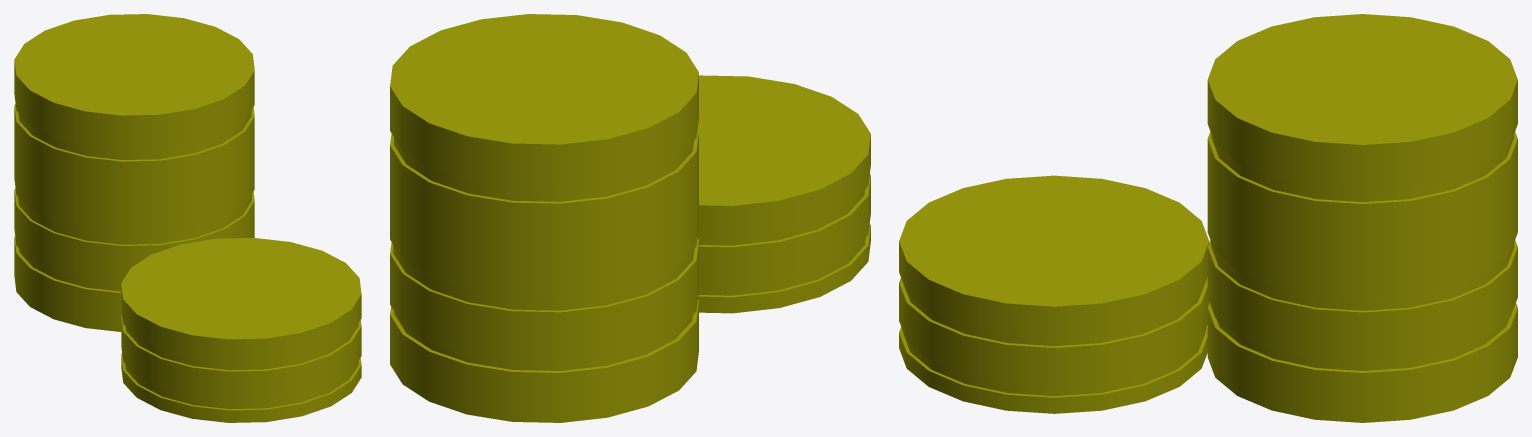
Rendered from goldcoins.fbx.
3 views of the same model, side by side, from view 1: azimuth 30°, elevation 25°; view 2: azimuth 150°, elevation 25°; view 3: azimuth 270°, elevation 25° (orthographic). The views are drawn at different scales.
Visible parts, largest first — view 1: coins; view 2: coins; view 3: coins.
Boxes of the visible parts, bbox=[...] form: coins: bbox=[14, 14, 361, 422]; coins: bbox=[390, 14, 870, 422]; coins: bbox=[899, 14, 1517, 422].
Bounding box in the file's own units: 0.3488 × 0.324 × 0.6538.
